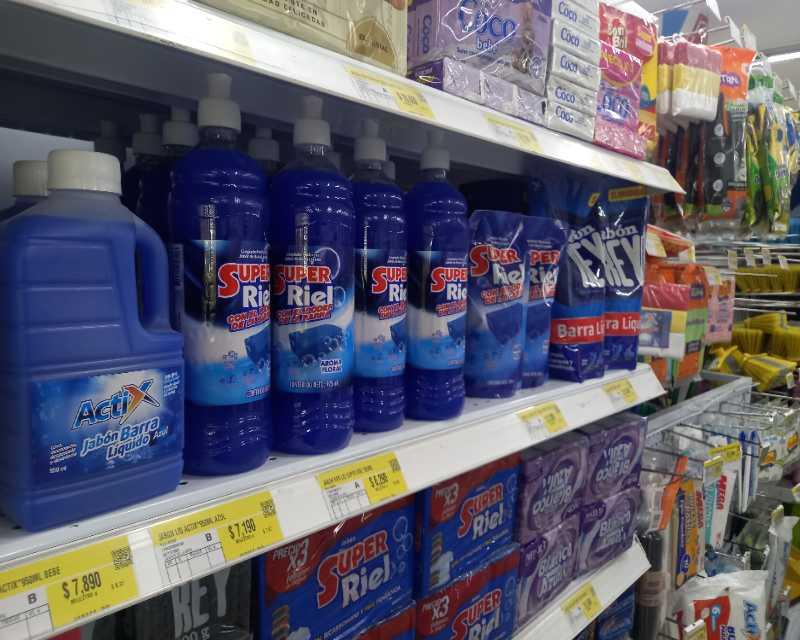ACTIX-AZUL-BOTELLA-950_1: (3, 143, 188, 542)
SUPER-RIEL-AZUL-BOTELLA-925_50: (184, 69, 275, 475), (278, 90, 357, 455), (353, 111, 411, 431), (413, 117, 468, 422)
SUPER-RIEL-AZUL-DOY-PACK-1600_51: (465, 203, 530, 397), (520, 215, 568, 386)
